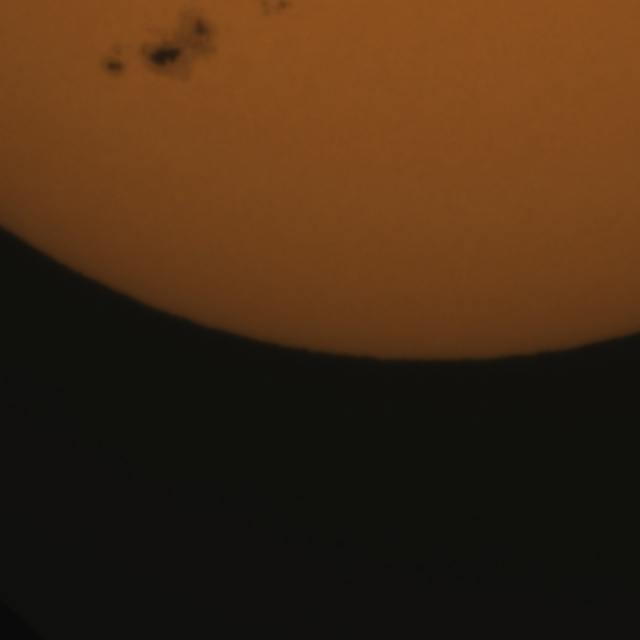sunspot: (140, 31, 196, 82), (190, 15, 218, 47), (102, 48, 127, 81), (257, 0, 290, 20)
